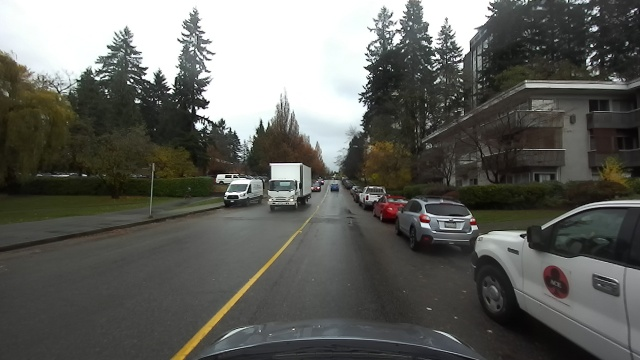car: (460, 196, 637, 343), (388, 199, 478, 251), (265, 160, 314, 212), (224, 177, 264, 208), (370, 194, 409, 223), (358, 185, 388, 210), (214, 173, 244, 184), (329, 182, 340, 192), (311, 182, 321, 192)
